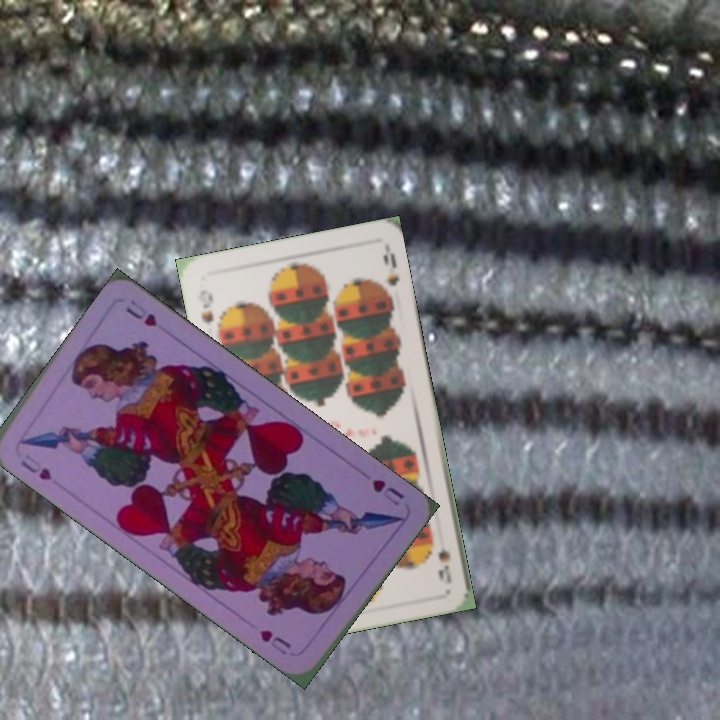HU: (368, 475, 407, 509), (16, 450, 55, 483)
S9: (193, 286, 216, 327), (434, 543, 454, 587)
